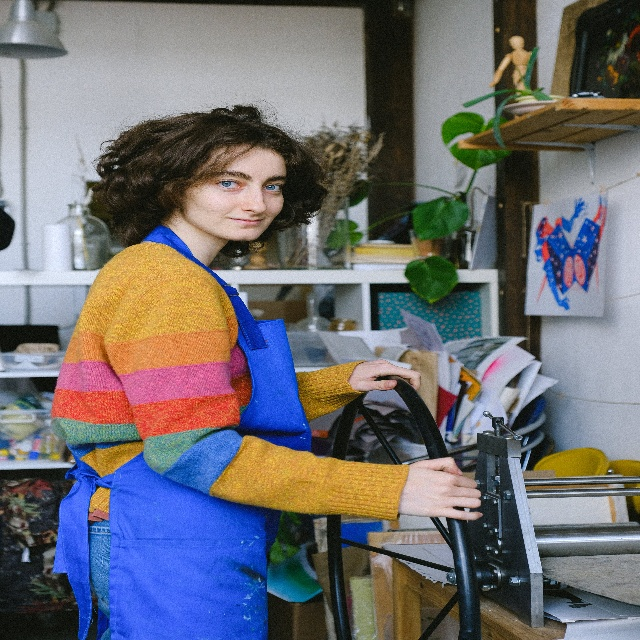Sin_guantes: (397, 456, 483, 524), (348, 357, 422, 394)
